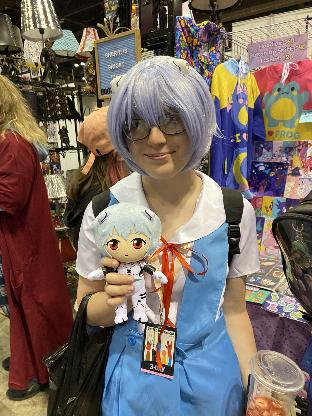rei-plush: (84, 199, 182, 326)
